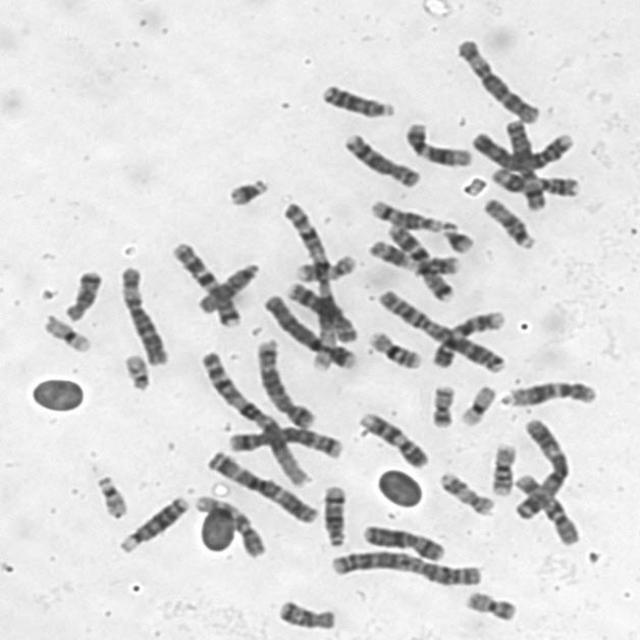A1: (197, 348, 312, 489), (278, 196, 338, 348)
A2: (375, 286, 507, 374), (325, 547, 484, 587)
A3: (204, 448, 319, 526), (512, 416, 570, 520)
B4: (260, 290, 357, 370), (467, 125, 576, 171)
B5: (254, 336, 317, 430), (224, 424, 347, 461)
C10: (512, 469, 582, 547), (192, 492, 267, 559)
C11: (365, 239, 467, 274), (488, 165, 581, 198)
C12: (401, 119, 473, 169), (498, 377, 598, 408)
C6: (452, 34, 541, 125), (116, 265, 170, 366)
C7: (168, 238, 244, 330), (381, 221, 455, 303)
C8: (283, 278, 358, 344), (340, 131, 423, 189)
C9: (429, 306, 509, 370), (357, 409, 429, 469)
D13: (115, 498, 190, 556), (317, 80, 396, 120)
D14: (367, 197, 445, 234), (319, 484, 349, 547)
D15: (192, 260, 258, 316), (481, 194, 537, 250)
E16: (364, 327, 423, 371), (486, 441, 519, 496)
E17: (435, 468, 496, 517), (292, 251, 358, 283)
E18: (61, 270, 105, 322), (273, 601, 335, 631)
F19: (42, 312, 90, 354), (457, 382, 498, 426)
F20: (462, 590, 518, 623), (428, 381, 457, 429)
G21: (223, 174, 271, 208), (438, 222, 475, 255)
G22: (92, 473, 129, 521), (121, 351, 152, 392)
X: (359, 527, 446, 562)
